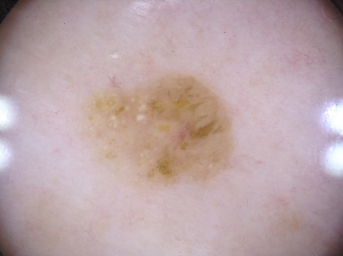seborrheic keratosis: (74, 68, 255, 196)
